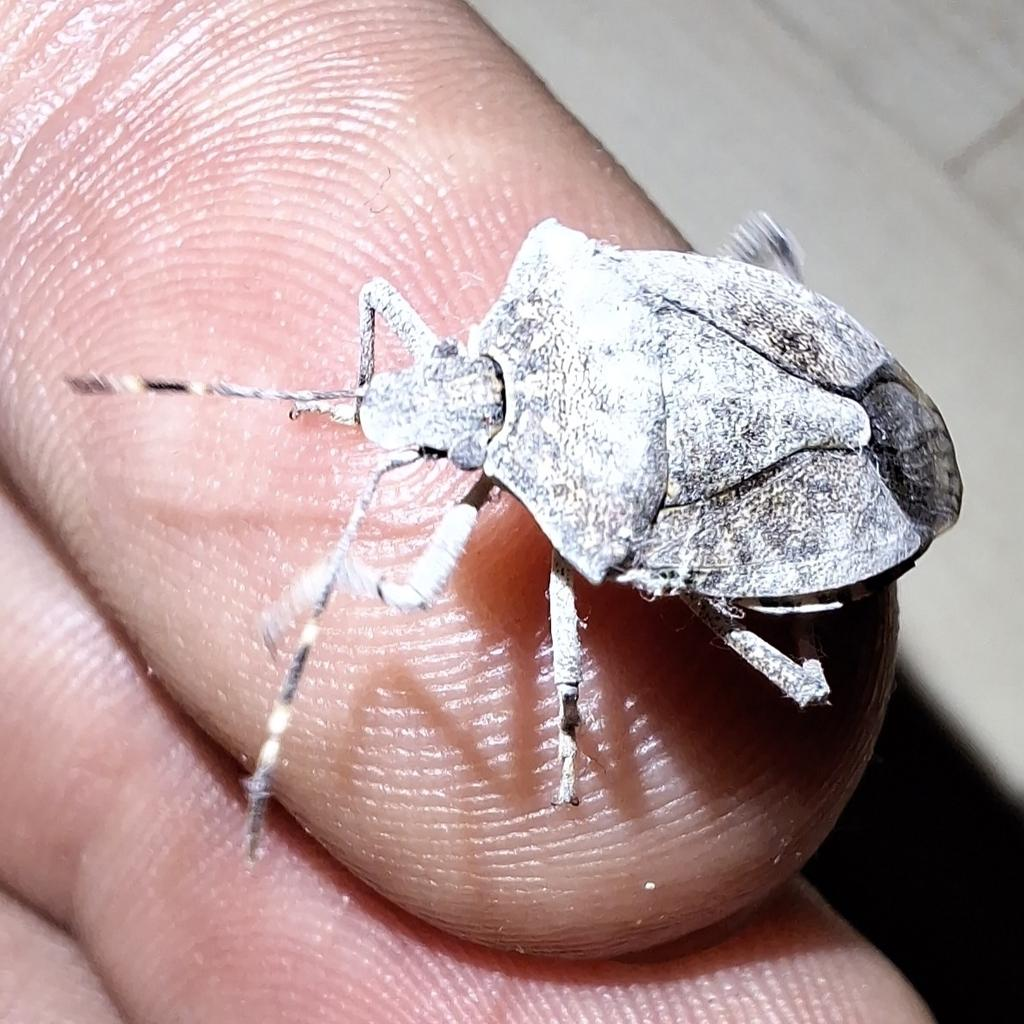stink_bugs: (0, 136, 1024, 912)
